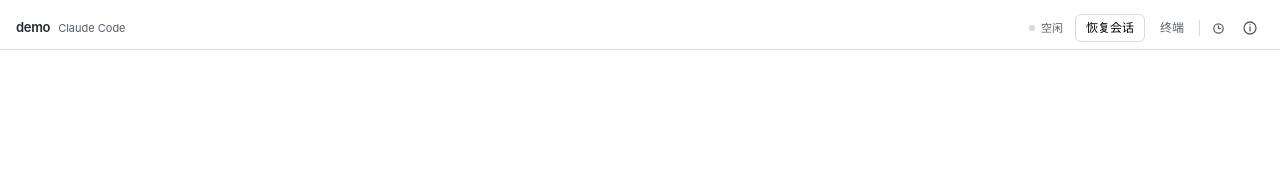
Test case: a pending null native session id has no copy action
Click the button named "显示详情" at (1250, 28), box [1236,14,1264,42]
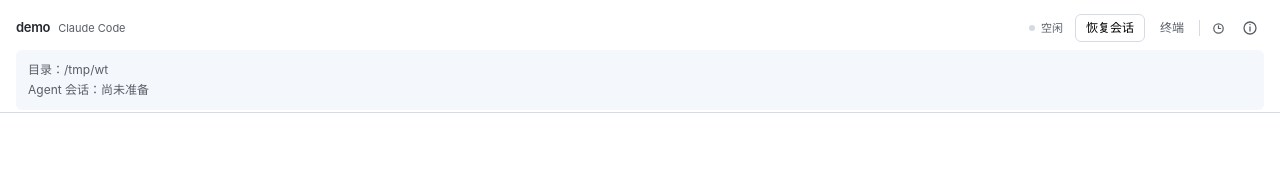
Check: the text "尚未准备" is shown, box [101,82,149,97]
